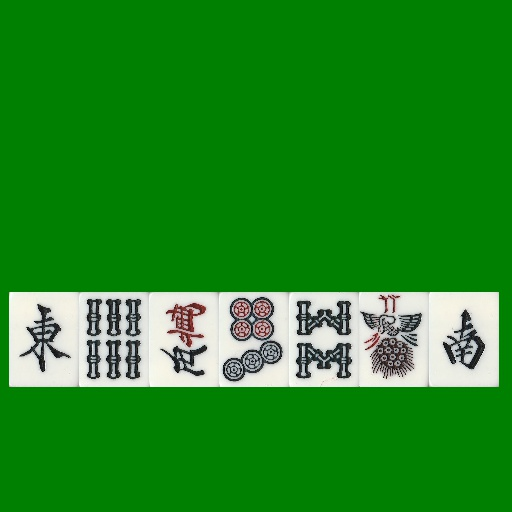1s: (359, 292, 429, 387)
5m: (149, 292, 219, 387)
6s: (79, 292, 149, 387)
7p: (219, 292, 289, 387)
8s: (289, 292, 359, 387)
east: (9, 292, 79, 387)
south: (429, 292, 499, 387)
